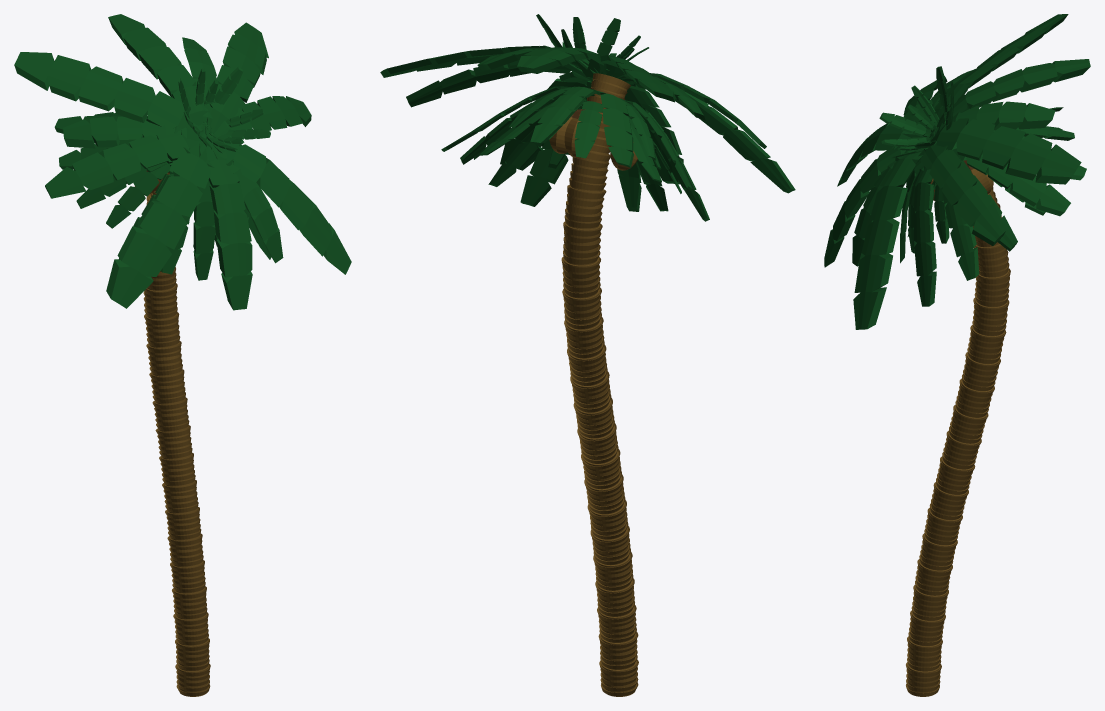
File: palma1.fbx
The picture shows the model from 3 angles, left to right: view 1: azimuth 30°, elevation 25°; view 2: azimuth 150°, elevation 25°; view 3: azimuth 270°, elevation 25°; orthographic projection. The views are drawn at different scales.
Visible parts, largest first — view 1: Cylinder; view 2: Cylinder; view 3: Cylinder.
Boxes of the visible parts, bbox=[...] form: Cylinder: bbox=[14, 14, 351, 696]; Cylinder: bbox=[380, 14, 795, 696]; Cylinder: bbox=[824, 14, 1090, 696].
Size of the model in its own units: 1263 by 2561 by 982.
